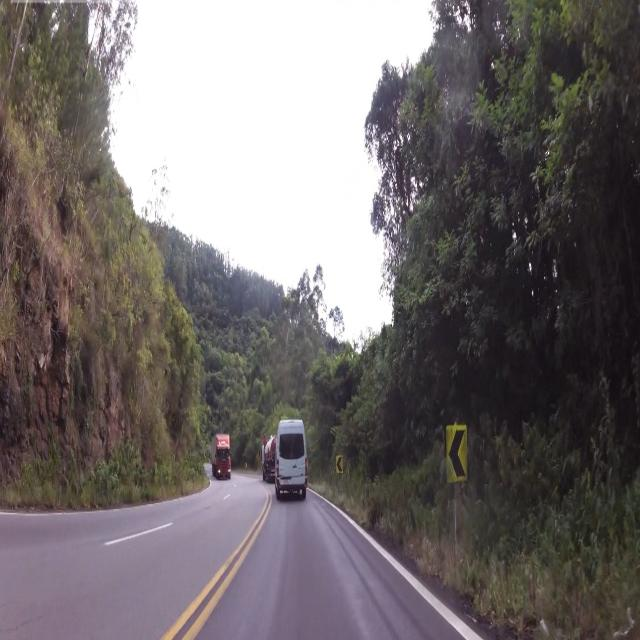Del: (446, 420, 472, 484)
